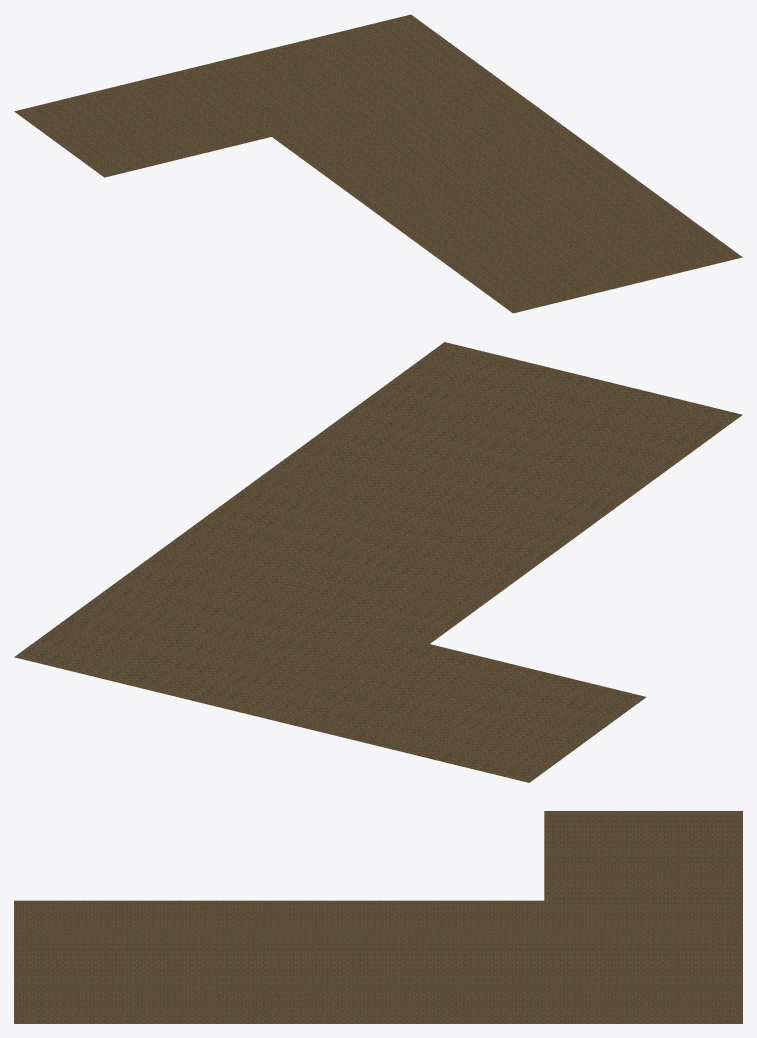
The model's file is 水泥地.glb.
3 renders of one model, top to bottom at view 1: azimuth 30°, elevation 25°; view 2: azimuth 150°, elevation 25°; view 3: azimuth 270°, elevation 25°, orthographic. The views are drawn at different scales.
Parts seen in each view (by area): view 1: root; view 2: root; view 3: root.
Boxes of the visible parts, x1=… form: root: x1=14, y1=14, x2=742, y2=313; root: x1=14, y1=342, x2=742, y2=782; root: x1=14, y1=811, x2=742, y2=1023.
Size of the model in its own units: 38 by 3.37e-15 by 55.
1 material, 1 textured.
